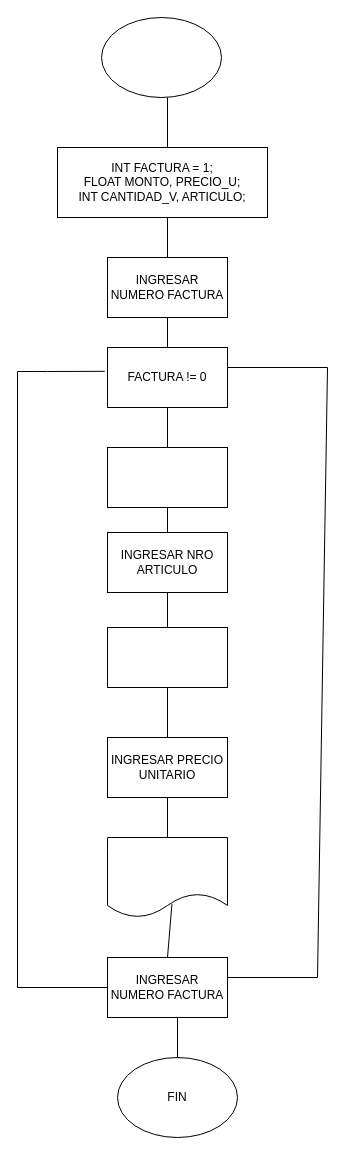
Image size: 346x1155. Some labels were removed from this diagram. Each missing label, with the box of its shape:
"FACTURA , MONTO , ARTICULO, CANT VEND, PRECIO UN.": (106, 836, 228, 918)
INGRESAR CANTIDAD VENDIDA: (106, 626, 228, 688)
INGRESAR MONTO FACTURA: (106, 446, 228, 508)
INICIO: (100, 16, 222, 98)
